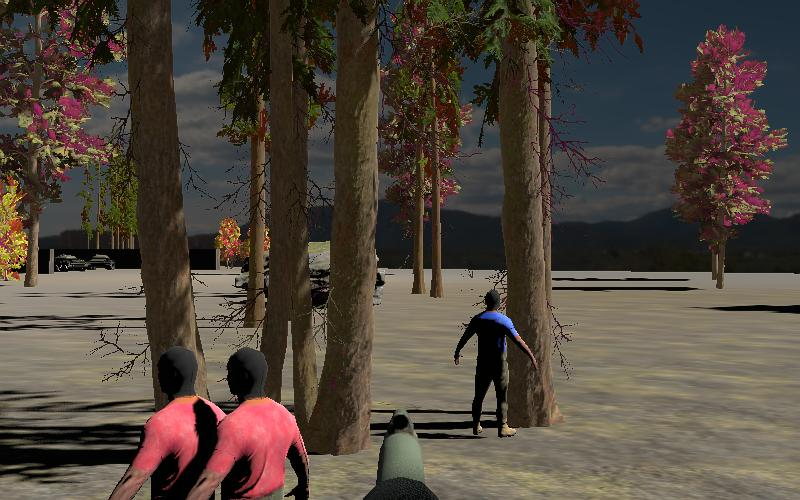Human: (103, 340, 254, 500), (190, 344, 314, 500), (450, 285, 539, 440)
Tank: (53, 251, 90, 274)
